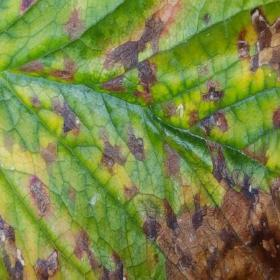Angular Leafspot: (0, 0, 279, 279)
